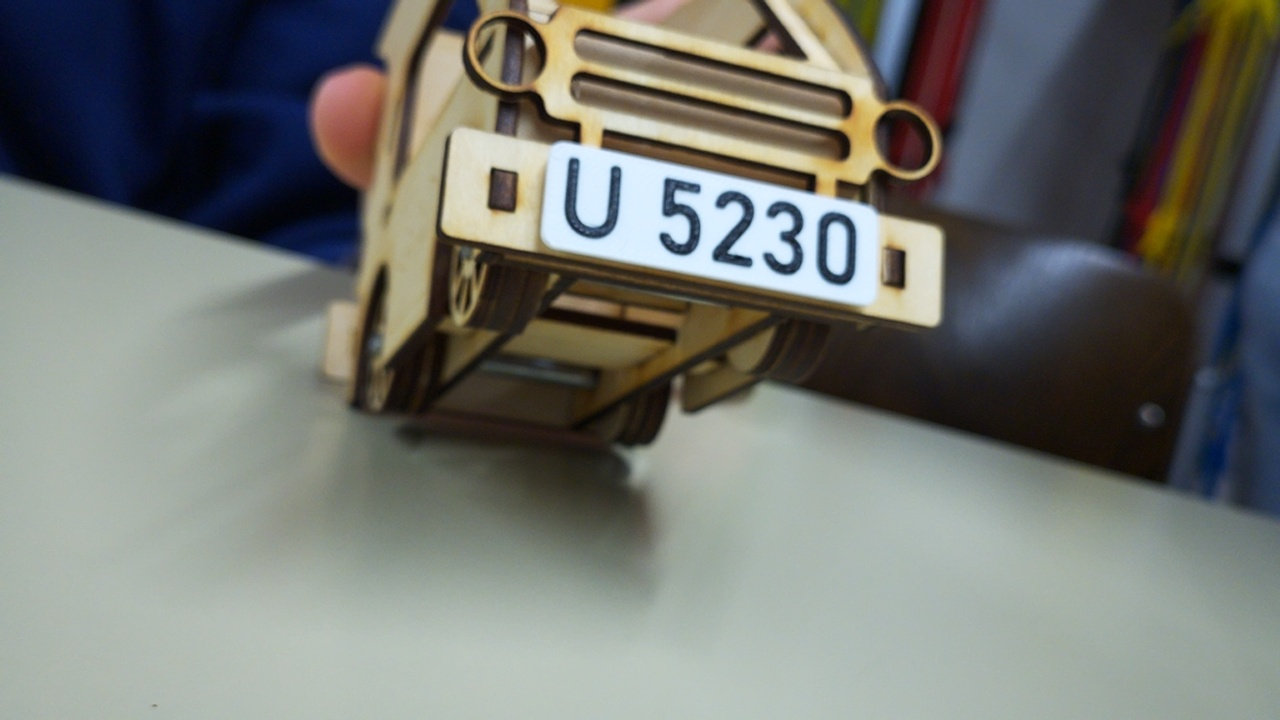license_plate: (536, 139, 881, 308)
